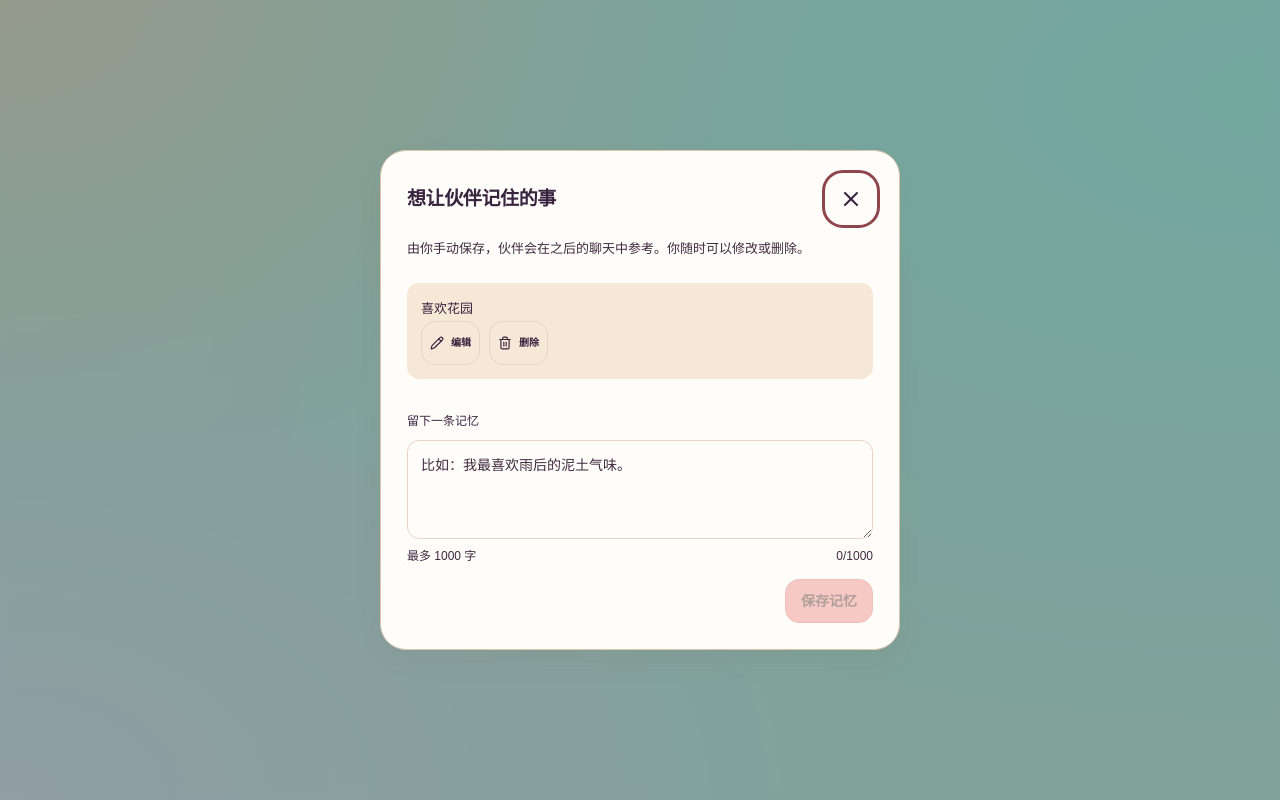
keeps edited content after failed save
Click the button with aria-label "编辑记忆：喜欢花园" at (450, 343), box [421,321,480,365]
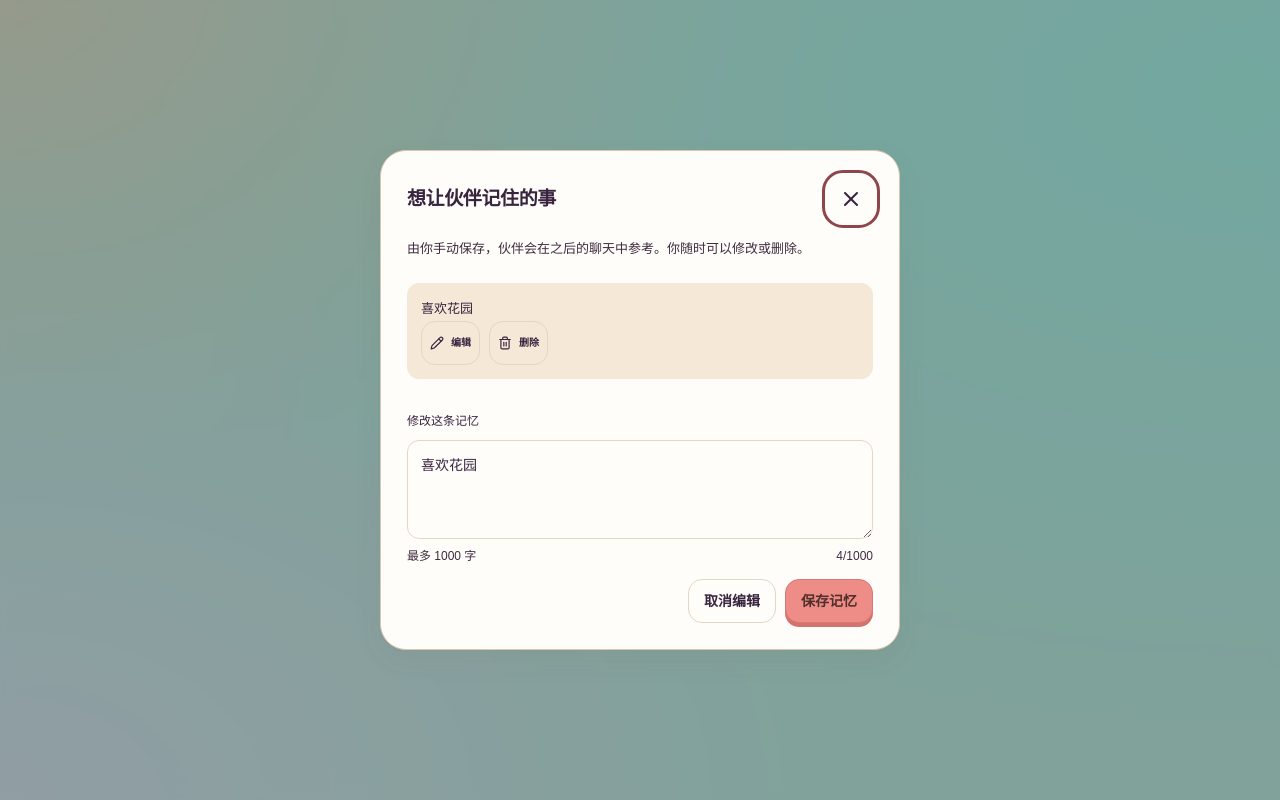
Replace the text in the text box labelled "修改这条记忆" with "喜欢小雨" at (640, 489), box [407,440,873,539]
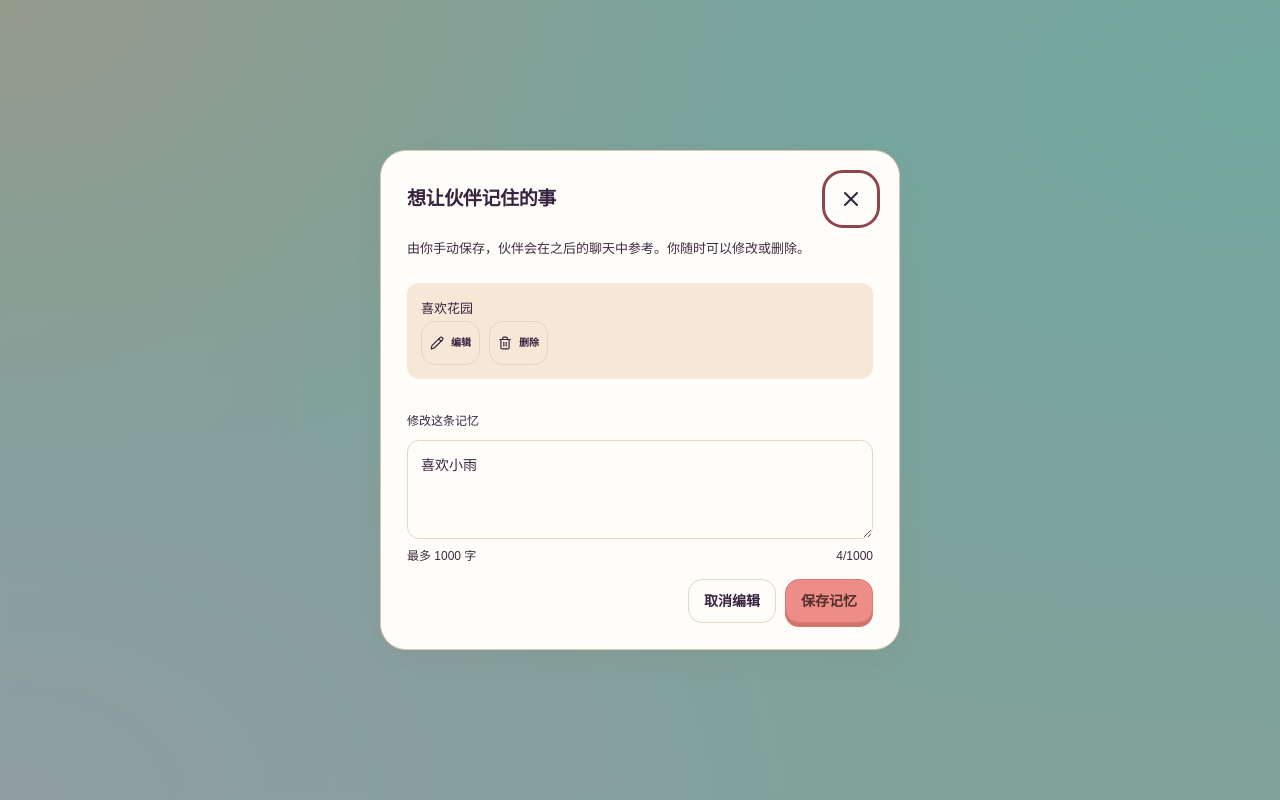
Click the button "保存记忆" at (829, 601), box [785,579,873,623]
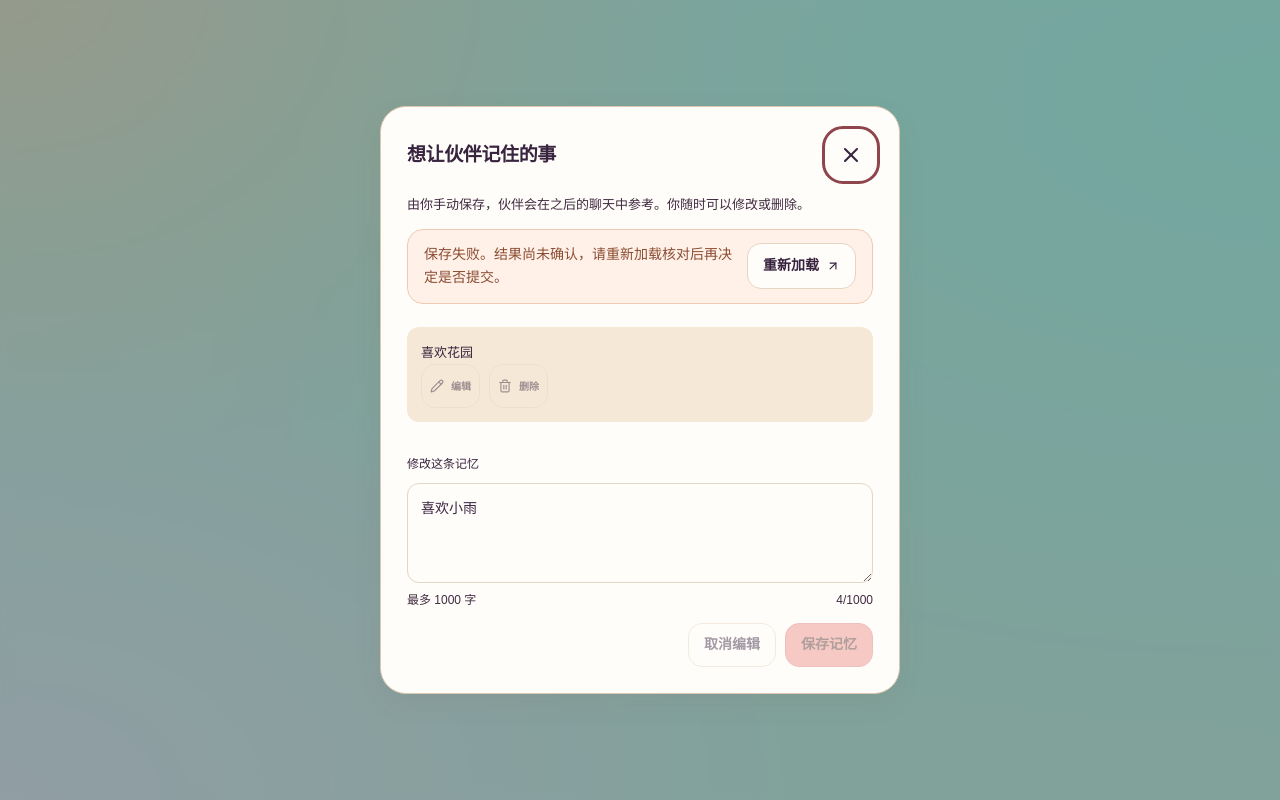
Result: the message shows "保存失败" at [424,246,732,285]
